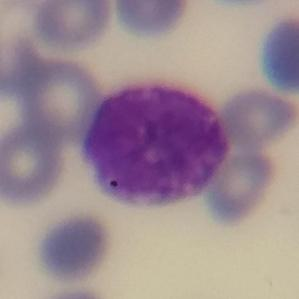Basophil: (74, 70, 240, 216)
RBC: (21, 58, 103, 144), (33, 210, 116, 286), (202, 144, 278, 226), (0, 121, 68, 209), (218, 84, 298, 147), (31, 0, 116, 54), (108, 0, 194, 41), (256, 15, 299, 94), (0, 74, 34, 150), (38, 286, 111, 299), (202, 0, 278, 9)
